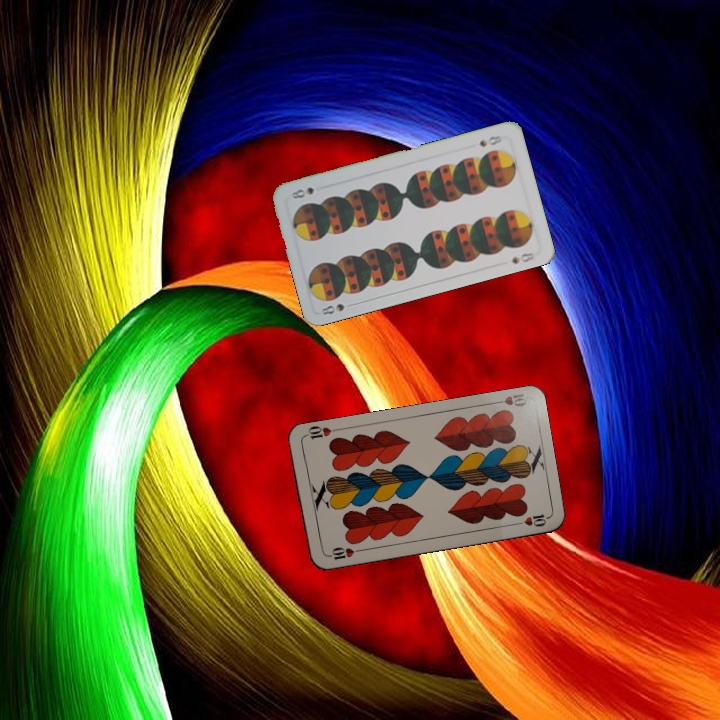H10: (488, 389, 529, 409), (323, 543, 363, 563)
S8: (317, 299, 357, 317), (475, 131, 504, 149)
